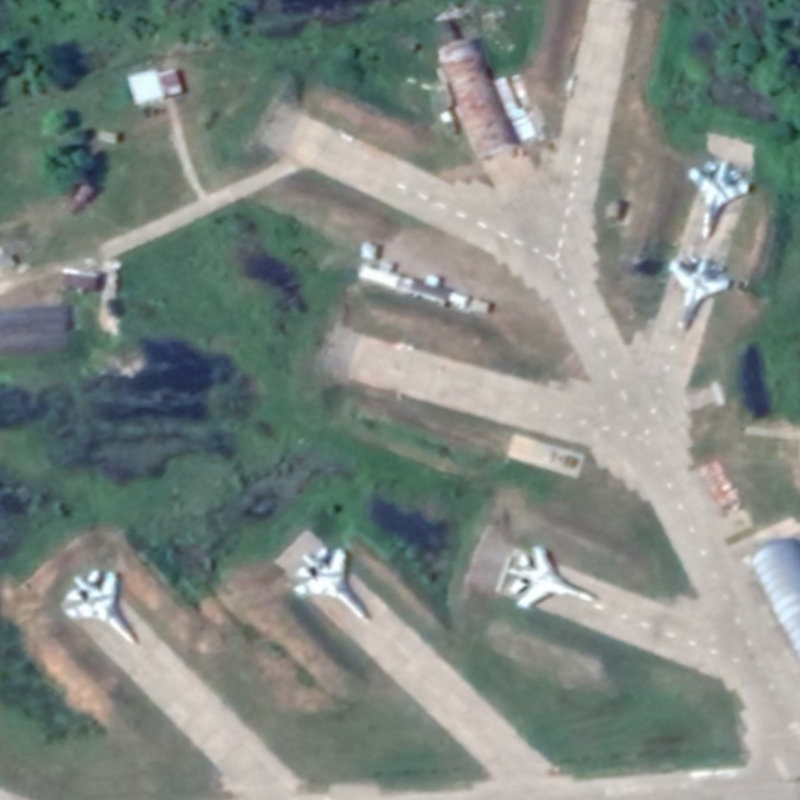A1: (290, 545, 375, 626), (62, 567, 144, 650), (503, 543, 600, 611), (685, 156, 753, 241), (666, 249, 732, 334)
